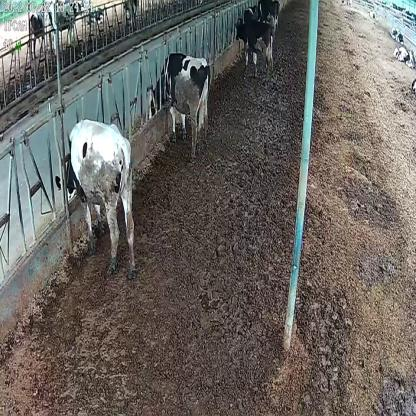cow: (55, 117, 138, 280), (146, 52, 210, 166), (234, 14, 273, 80)
